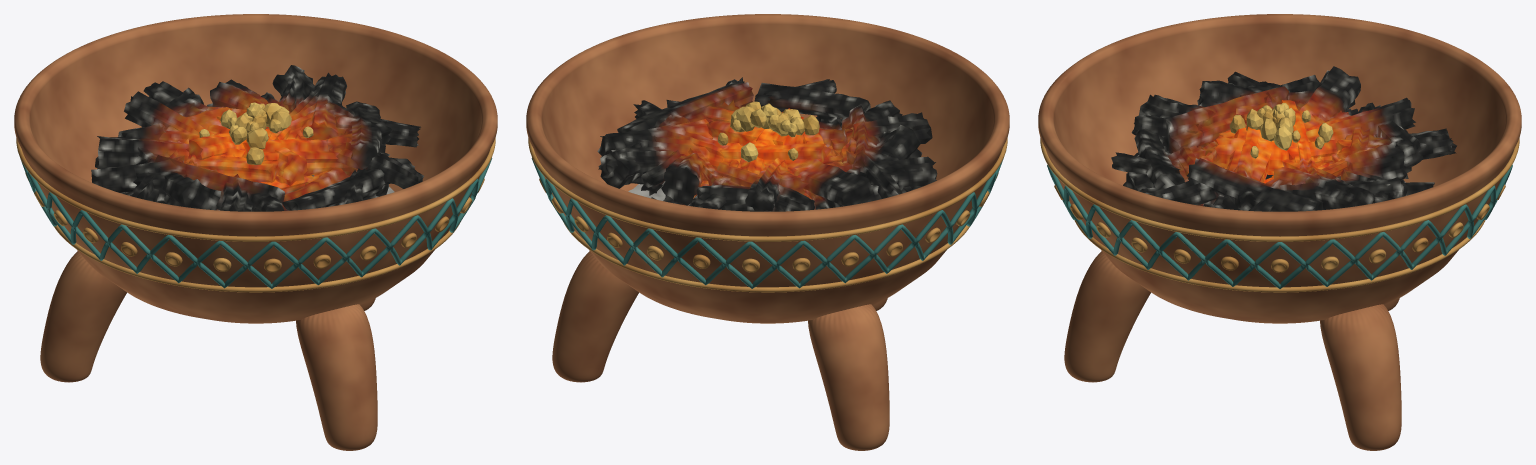
File: sahumerio.gltf
3 views of the same model, side by side, from view 1: azimuth 30°, elevation 25°; view 2: azimuth 150°, elevation 25°; view 3: azimuth 270°, elevation 25° (orthographic).
Visible parts, largest first — view 1: cuenco, pata, pata.002, cordon.001, cordon, carbon.113, carbon.091, carbon.110, carbon.100, carbon.085, carbon.120, carbon.084 (+30 smaller); view 2: cuenco, pata.002, pata.001, cordon.001, carbon.113, carbon.110, cordon, carbon.085, carbon.117, carbon.119, carbon.120, carbon.090 (+27 smaller); view 3: cuenco, pata.001, pata, cordon.001, carbon.084, carbon.085, cordon, carbon.113, carbon.100, carbon.120, carbon.091, carbon.117 (+28 smaller).
Boxes of the visible parts, x1,y1,x2,y2 form: cuenco: (14, 14, 497, 323); pata: (296, 304, 377, 450); pata.002: (40, 251, 126, 382); cordon.001: (16, 138, 495, 241); cordon: (54, 222, 460, 292); carbon.113: (95, 136, 244, 169); carbon.091: (242, 138, 389, 177); carbon.110: (282, 169, 385, 210); carbon.100: (124, 91, 244, 157); carbon.085: (346, 101, 381, 169); carbon.120: (300, 72, 346, 140); carbon.084: (154, 155, 284, 210); cuenco: (526, 14, 1009, 323); pata.002: (808, 304, 889, 450); pata.001: (552, 251, 638, 382); cordon.001: (528, 138, 1007, 241); carbon.113: (787, 158, 881, 207); carbon.110: (754, 82, 870, 118); cordon: (563, 222, 969, 292); carbon.085: (617, 81, 753, 132); carbon.117: (661, 152, 705, 205); carbon.119: (720, 143, 830, 165); carbon.120: (597, 119, 712, 156); carbon.090: (708, 162, 814, 211); cuenco: (1038, 14, 1521, 323); pata.001: (1320, 304, 1401, 450); pata: (1064, 251, 1150, 382); cordon.001: (1040, 138, 1519, 241); carbon.084: (1161, 86, 1288, 153); carbon.085: (1187, 158, 1323, 211); cordon: (1074, 220, 1485, 292); carbon.113: (1299, 66, 1360, 128); carbon.100: (1305, 97, 1415, 141); carbon.120: (1265, 167, 1375, 209); carbon.091: (1213, 126, 1271, 210); carbon.117: (1344, 141, 1407, 180).
Bounding box in the file's own units: 0.312 × 0.1937 × 0.312.
6 materials, 6 textured.
